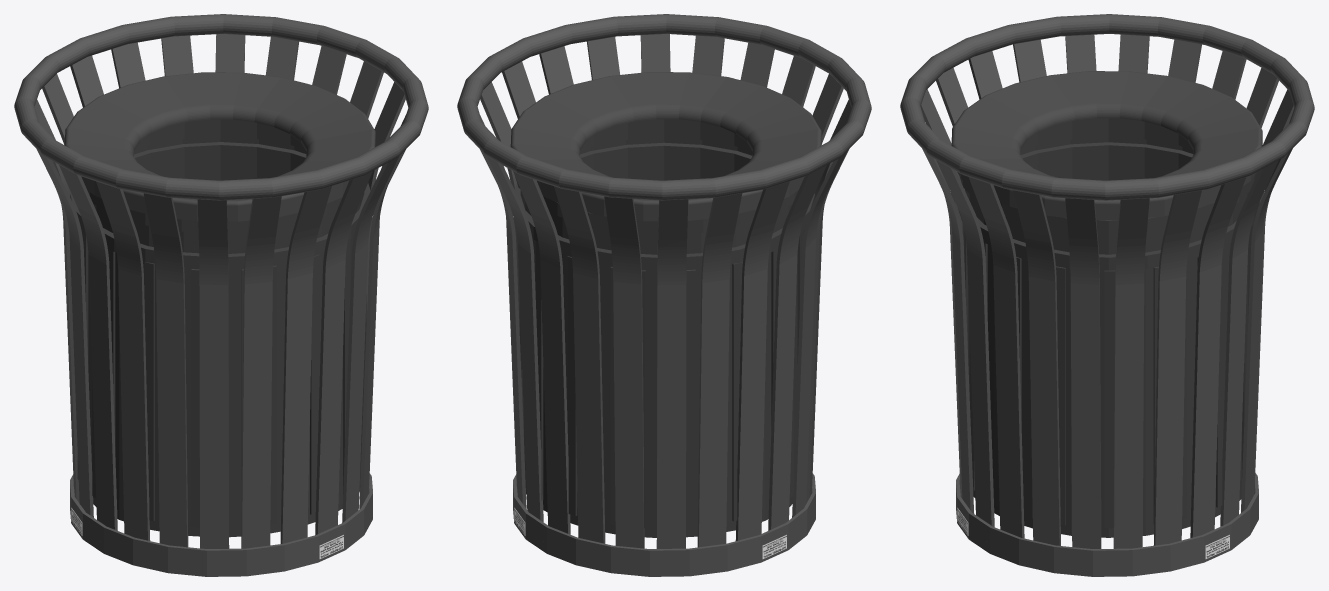
3 renders of one model, left to right at view 1: azimuth 30°, elevation 25°; view 2: azimuth 150°, elevation 25°; view 3: azimuth 270°, elevation 25°, orthographic.
Parts seen in each view (by area): view 1: mesh131_mesh131-geometry, mesh51_mesh51-geometry, mesh3_mesh3-geometry, mesh20_mesh20-geometry, mesh1_mesh1-geometry, mesh41_mesh41-geometry, mesh43_mesh43-geometry, mesh8_mesh8-geometry, mesh22_mesh22-geometry, mesh39_mesh39-geometry, mesh16_mesh16-geometry, mesh49_mesh49-geometry (+18 smaller); view 2: mesh131_mesh131-geometry, mesh51_mesh51-geometry, mesh3_mesh3-geometry, mesh37_mesh37-geometry, mesh4_mesh4-geometry, mesh35_mesh35-geometry, mesh6_mesh6-geometry, mesh33_mesh33-geometry, mesh22_mesh22-geometry, mesh27_mesh27-geometry, mesh18_mesh18-geometry, mesh31_mesh31-geometry (+19 smaller); view 3: mesh131_mesh131-geometry, mesh51_mesh51-geometry, mesh3_mesh3-geometry, mesh14_mesh14-geometry, mesh45_mesh45-geometry, mesh12_mesh12-geometry, mesh47_mesh47-geometry, mesh29_mesh29-geometry, mesh10_mesh10-geometry, mesh22_mesh22-geometry, mesh49_mesh49-geometry, mesh31_mesh31-geometry (+20 smaller).
Boxes of the visible parts, x1,y1,x2,y2 form: mesh131_mesh131-geometry: (70,119,370,537); mesh51_mesh51-geometry: (64,72,375,221); mesh3_mesh3-geometry: (14,14,428,200); mesh20_mesh20-geometry: (241,196,281,548); mesh1_mesh1-geometry: (197,199,229,548); mesh41_mesh41-geometry: (143,193,188,547); mesh43_mesh43-geometry: (280,186,331,543); mesh8_mesh8-geometry: (96,181,150,540); mesh22_mesh22-geometry: (70,473,372,576); mesh39_mesh39-geometry: (315,171,372,535); mesh16_mesh16-geometry: (59,165,117,530); mesh49_mesh49-geometry: (342,156,399,522); mesh131_mesh131-geometry: (515,119,814,537); mesh51_mesh51-geometry: (510,72,821,221); mesh3_mesh3-geometry: (457,14,871,200); mesh37_mesh37-geometry: (656,199,688,548); mesh4_mesh4-geometry: (604,196,644,548); mesh35_mesh35-geometry: (697,193,742,547); mesh6_mesh6-geometry: (554,186,605,543); mesh33_mesh33-geometry: (735,181,789,540); mesh22_mesh22-geometry: (513,473,815,576); mesh27_mesh27-geometry: (513,171,570,534); mesh18_mesh18-geometry: (768,165,826,530); mesh31_mesh31-geometry: (487,156,543,521); mesh131_mesh131-geometry: (958,118,1259,537); mesh51_mesh51-geometry: (951,71,1262,220); mesh3_mesh3-geometry: (900,14,1314,200); mesh14_mesh14-geometry: (1113,198,1149,548); mesh45_mesh45-geometry: (1065,198,1101,548); mesh12_mesh12-geometry: (1153,190,1201,545); mesh47_mesh47-geometry: (1013,190,1060,545); mesh29_mesh29-geometry: (968,177,1024,538); mesh10_mesh10-geometry: (1190,177,1246,537); mesh22_mesh22-geometry: (956,473,1258,576); mesh49_mesh49-geometry: (936,160,994,526); mesh31_mesh31-geometry: (1220,160,1278,526).
Bounding box in the file's own units: 0.5574 × 0.6153 × 0.5574.
